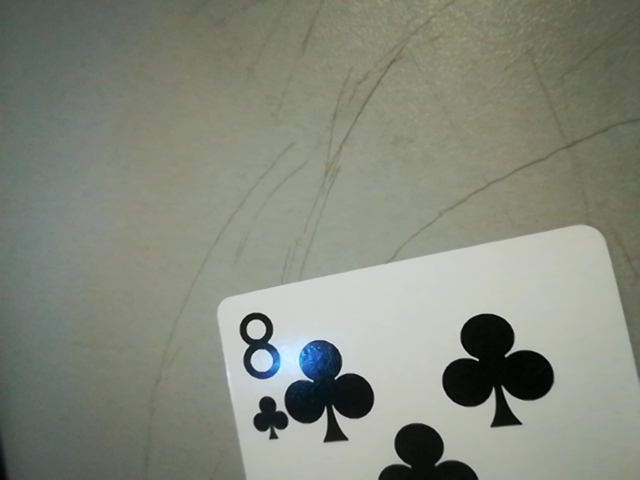mh 8: (222, 298, 290, 445)
